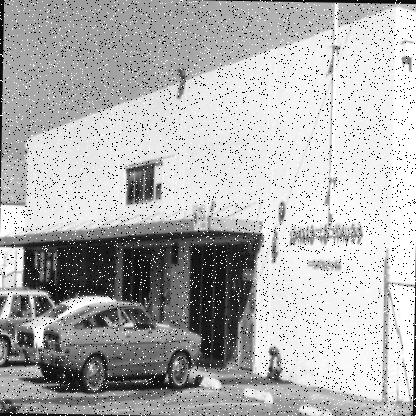Car: (16, 290, 171, 372), (0, 285, 55, 372)
